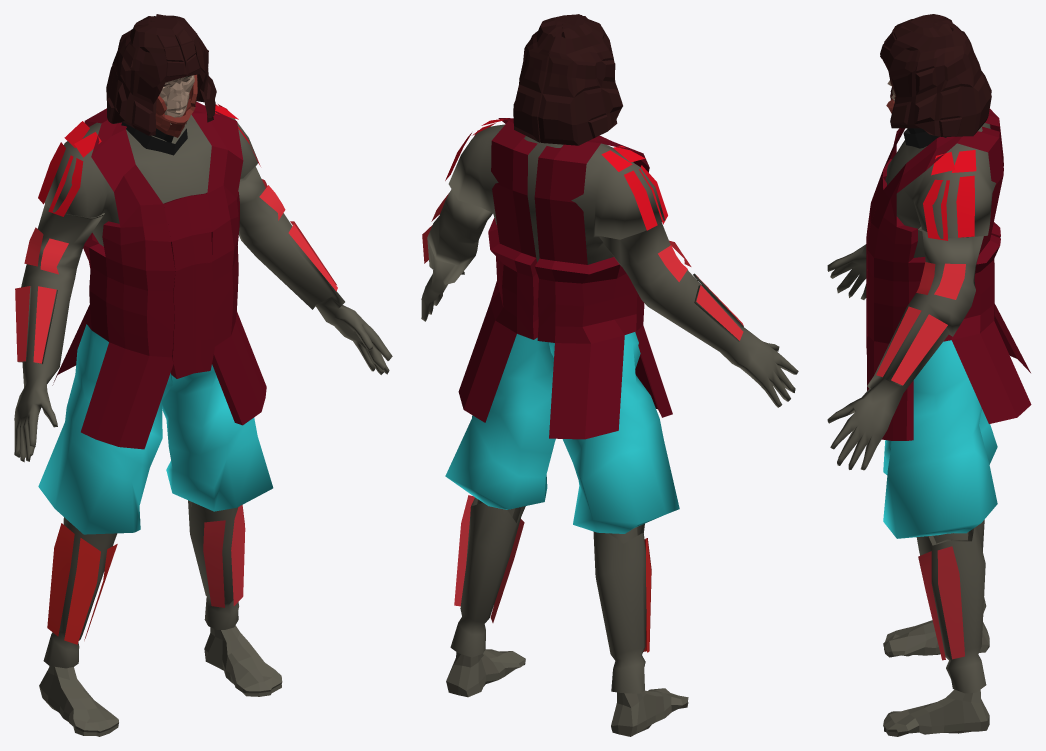
File: samgameronin3editedface.fbx
The picture shows the model from 3 angles, left to right: view 1: azimuth 30°, elevation 25°; view 2: azimuth 150°, elevation 25°; view 3: azimuth 270°, elevation 25°; orthographic projection.
Visible parts, largest first — view 1: Cube.004; view 2: Cube.004; view 3: Cube.004.
Boxes of the visible parts, bbox=[...] form: Cube.004: bbox=[14, 14, 392, 736]; Cube.004: bbox=[421, 14, 798, 736]; Cube.004: bbox=[827, 14, 1031, 736].
Size of the model in its own units: 277 by 492 by 136.
